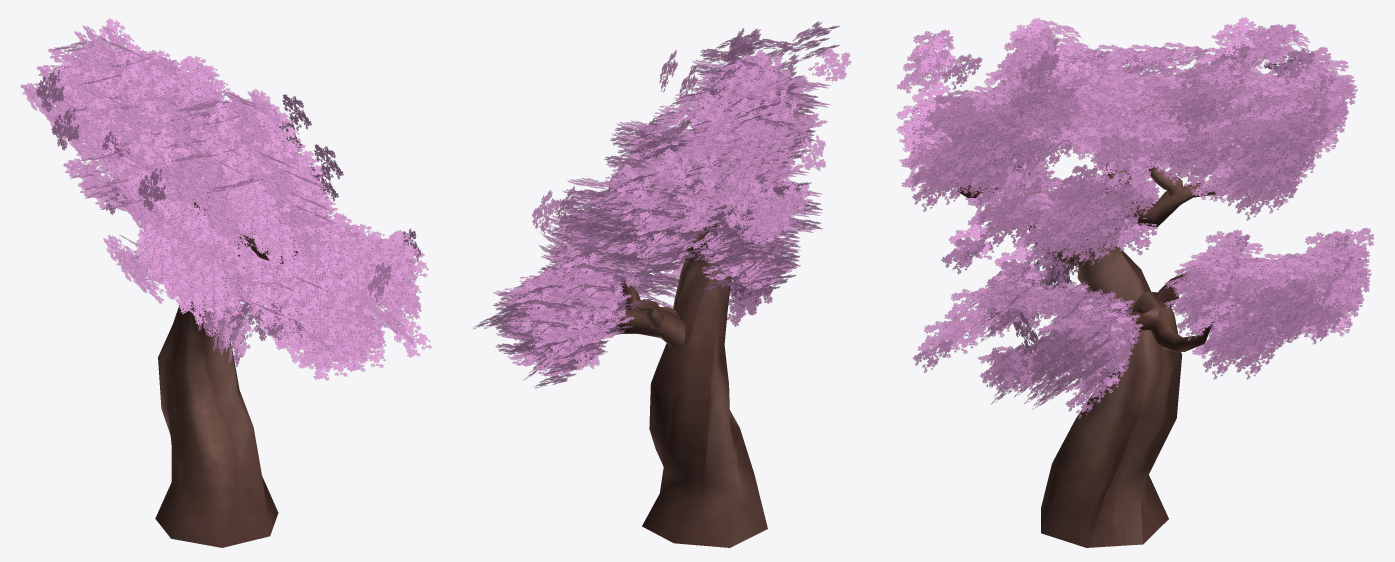
The model's file is organics_small_tree.glb.
3 views of the same model, side by side, from view 1: azimuth 30°, elevation 25°; view 2: azimuth 150°, elevation 25°; view 3: azimuth 270°, elevation 25° (orthographic). The views are drawn at different scales.
Visible parts, largest first — view 1: Object_2, Object_3; view 2: Object_2, Object_3; view 3: Object_2, Object_3.
Boxes of the visible parts, x1,y1,x2,y2 form: Object_2: [20, 18, 431, 380]; Object_3: [155, 197, 297, 547]; Object_2: [473, 21, 851, 388]; Object_3: [605, 197, 767, 547]; Object_2: [896, 17, 1374, 418]; Object_3: [957, 163, 1215, 547].
Size of the model in its own units: 9.2 by 13.14 by 11.82.
2 materials, 2 textured.
